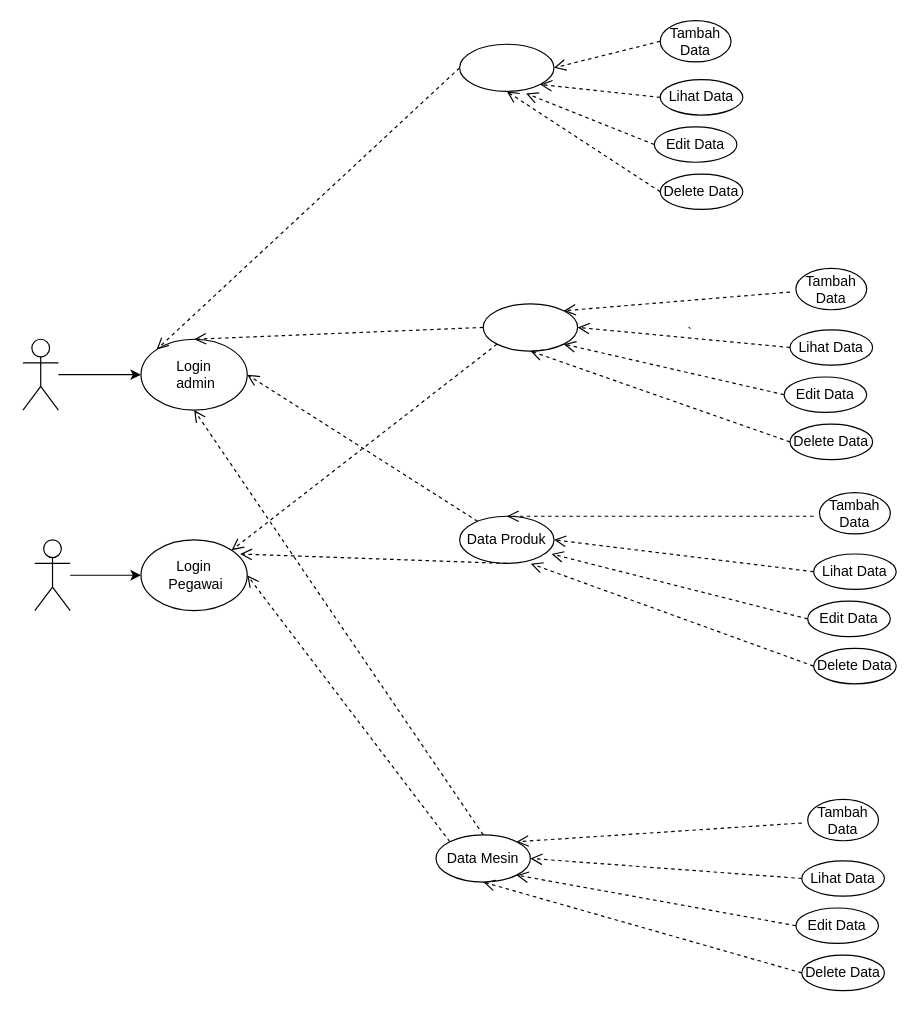
The diagram is 917 pixels wide and 1011 high, and some of its shapes have lost their labels. Here are the shapes that lost their labels. From the top down, the box of each, then its label:
(458, 43, 554, 91): Data Pegawai
(482, 303, 578, 351): Data Kemasan
(22, 338, 58, 410): Admin
(34, 539, 70, 611): Pegawai
